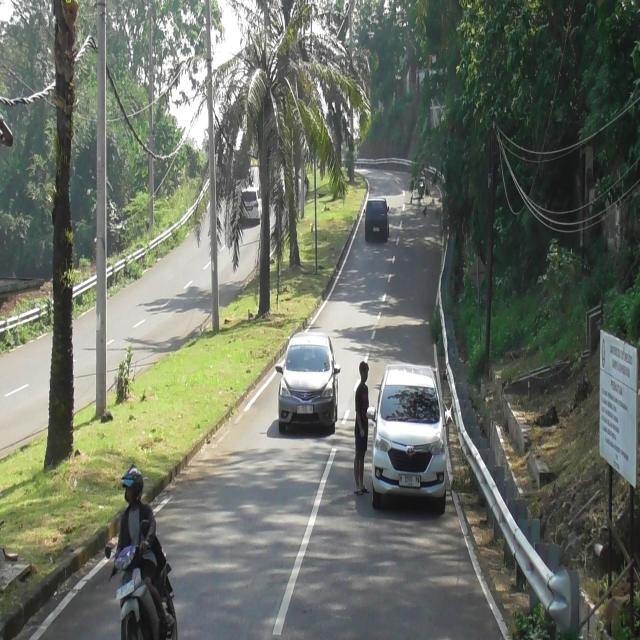motorcycle: (112, 542, 180, 640)
person: (117, 468, 174, 629)
rider_region: (113, 463, 178, 640)
